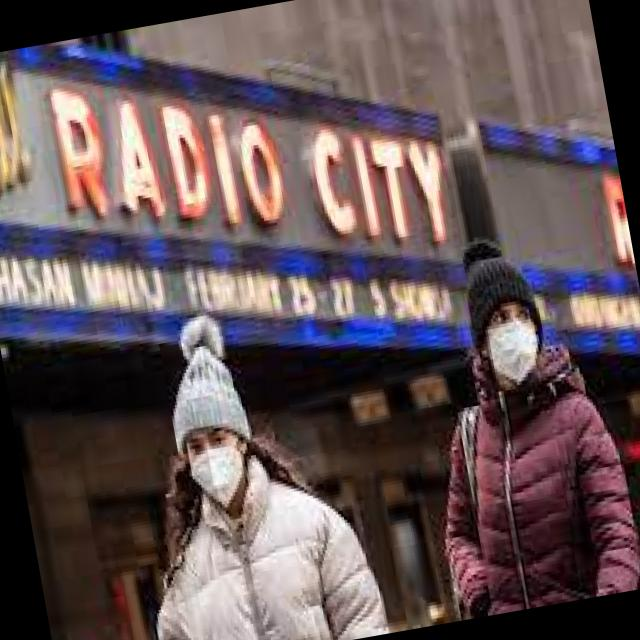Jacket: (417, 357, 640, 620), (119, 458, 390, 640)
